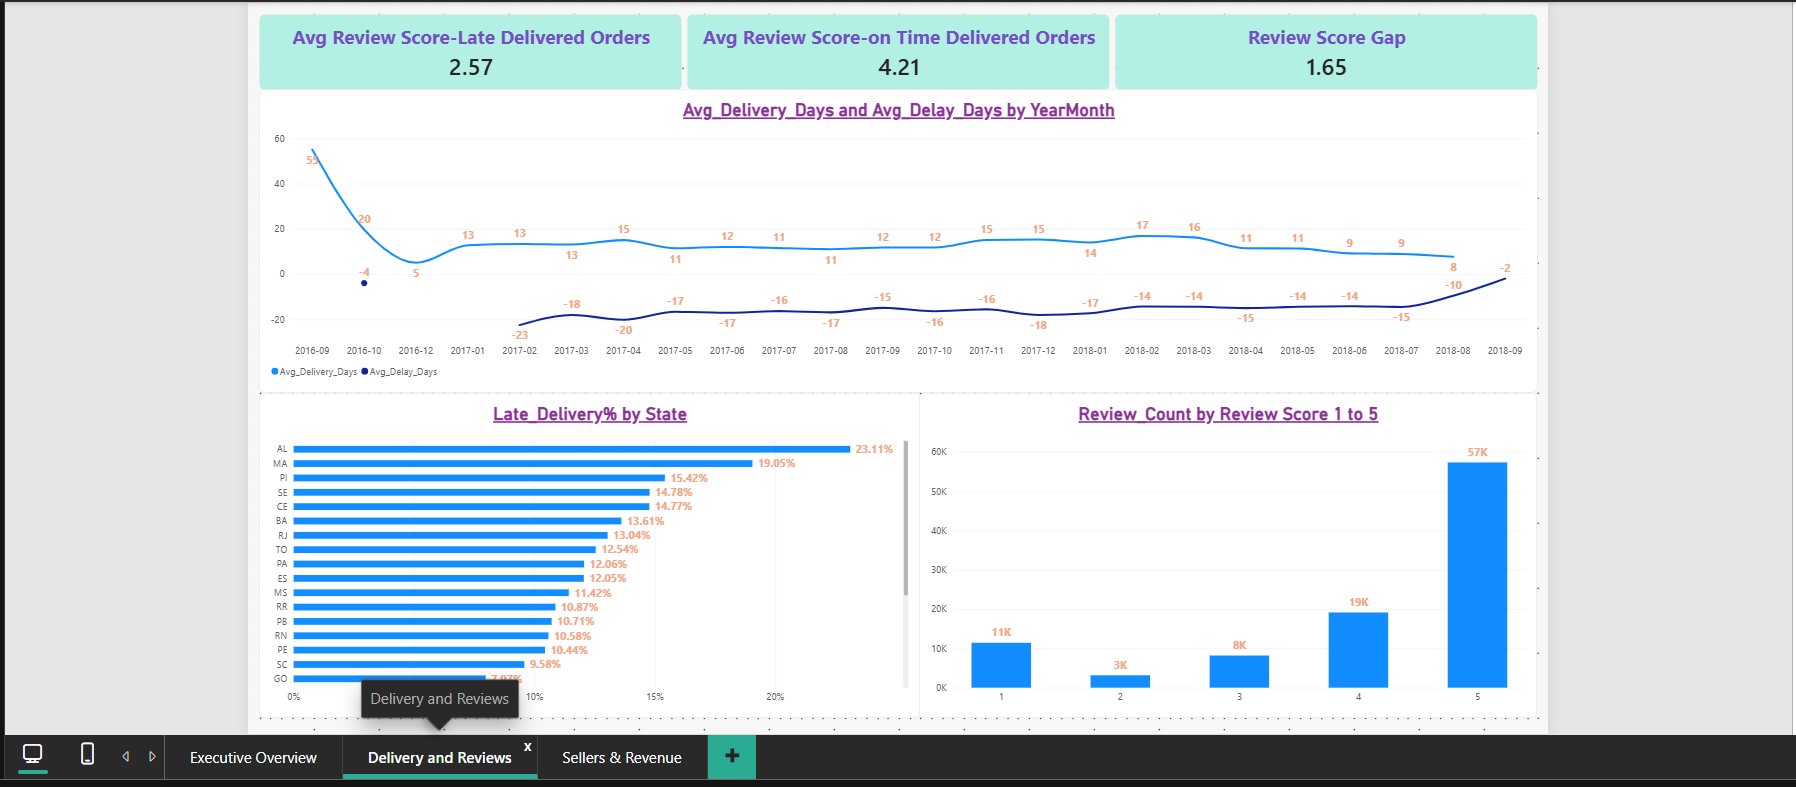

This screenshot's page, from the dashboard's own definition file:
{"tool":"powerbi","page":{"name":"Delivery and Reviews","canvas":[1920,1080],"ordinal":1},"visuals":[{"type":"barChart","fields":{"Category":["gold dim_Customers.State"],"Y":["Measures (2).Late_Delivery%"]},"box":[16,576,976,480],"z":0},{"type":"cardVisual","fields":{"Data":["Measures (2).Average_Review_Score_LateOrders","Measures (2).Avg_Review_Score_OnTime","Measures (2).Review_Score_Gap_OnTime_Vs_Late"]},"box":[16,16,1888,112],"z":1},{"type":"columnChart","title":"Review_Count by Review Score 1 to 5","fields":{"Category":["gold Fact_Reviews.ReviewScore"],"Y":["Measures (2).Review_Count"]},"box":[992,576,912,480],"z":2},{"type":"lineChart","fields":{"Category":["gold dim_DateTable.YearMonth"],"Y":["Measures (2).Avg_Delivery_Days","Measures (2).Avg_Delay_Days"]},"box":[16,128,1888,448],"z":3}]}

Visuals, with their boxes on the page's 1920x1080 design canvas (x1, y1, x2, y2). These are canvas units, not pixel positions in the 1796x787 screenshot, which may show the page scaled, cropped or inside an application window:
barChart - gold dim_Customers.State x Measures (2).Late_Delivery%: select_region(16, 576, 992, 1056)
cardVisual - Measures (2).Average_Review_Score_LateOrders x Measures (2).Avg_Review_Score_OnTime: select_region(16, 16, 1904, 128)
"Review_Count by Review Score 1 to 5" columnChart: select_region(992, 576, 1904, 1056)
lineChart - gold dim_DateTable.YearMonth x Measures (2).Avg_Delivery_Days: select_region(16, 128, 1904, 576)
